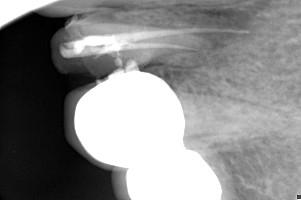Furcation Involvement: (195, 7, 253, 49)
